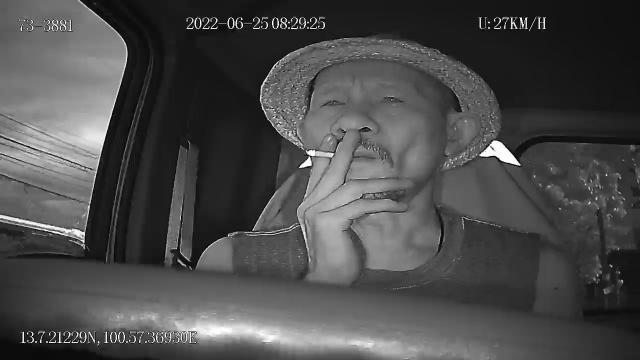SafeDriving: (374, 87, 410, 110)
Smoking: (304, 146, 336, 160)
